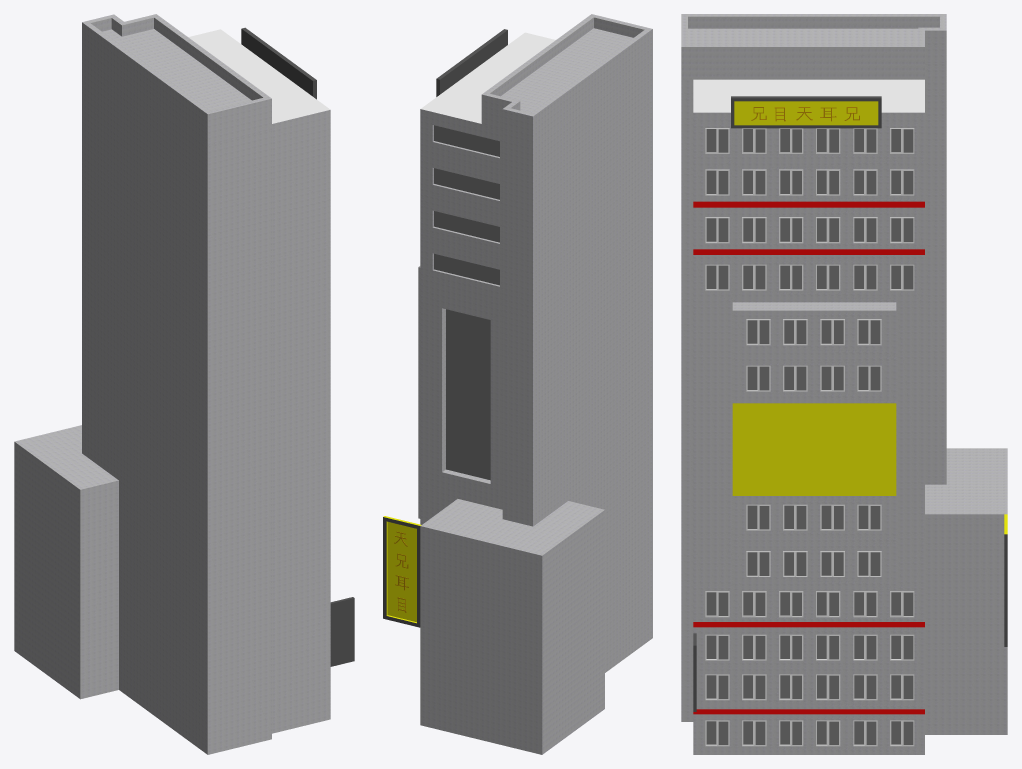
Rendered from Punk5.fbx.
The picture shows the model from 3 angles, left to right: view 1: azimuth 30°, elevation 25°; view 2: azimuth 150°, elevation 25°; view 3: azimuth 270°, elevation 25°; orthographic projection. The views are drawn at different scales.
Visible parts, largest first — view 1: Group4, Model, Group6, Group1, Group2, Group3, Group7, Group13, Group16; view 2: Group4, Model, Group6, Group1, Group3, Group2, Group7, Group8, Group16, Group5; view 3: Group4, Group5, Model, Group1, Group6, Group3, Group7, Group2, Group16.
Boxes of the visible parts, bbox=[...] form: Group4: bbox=[14, 425, 330, 754]; Model: bbox=[82, 233, 330, 545]; Group6: bbox=[82, 29, 330, 190]; Group1: bbox=[82, 14, 271, 144]; Group2: bbox=[82, 143, 330, 280]; Group3: bbox=[82, 98, 330, 235]; Group7: bbox=[82, 188, 330, 325]; Group13: bbox=[330, 597, 354, 666]; Group16: bbox=[241, 27, 316, 99]; Group4: bbox=[420, 439, 652, 754]; Model: bbox=[420, 230, 652, 526]; Group6: bbox=[420, 32, 652, 188]; Group1: bbox=[481, 14, 652, 145]; Group3: bbox=[420, 101, 652, 231]; Group2: bbox=[420, 144, 652, 274]; Group7: bbox=[420, 187, 652, 316]; Group8: bbox=[383, 516, 421, 627]; Group16: bbox=[436, 29, 507, 96]; Group5: bbox=[418, 266, 420, 518]; Group4: bbox=[681, 448, 1007, 754]; Group5: bbox=[732, 302, 896, 588]; Model: bbox=[681, 252, 946, 534]; Group1: bbox=[681, 14, 946, 79]; Group6: bbox=[681, 63, 946, 159]; Group3: bbox=[681, 110, 946, 207]; Group7: bbox=[681, 205, 946, 302]; Group2: bbox=[681, 158, 946, 254]; Group16: bbox=[731, 96, 881, 128].
Bounding box in the file's own units: 1768 × 5664 × 2483.
